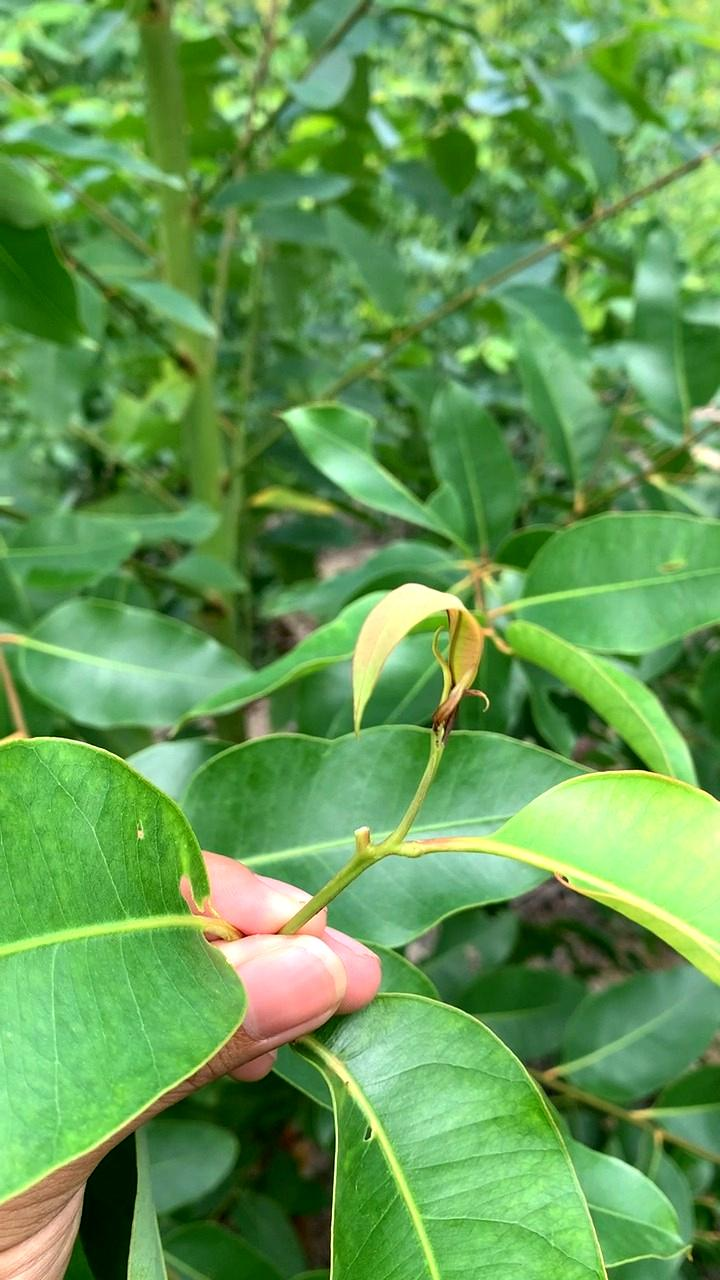Helopeltis-Withered Sprout: (340, 548, 537, 755)
